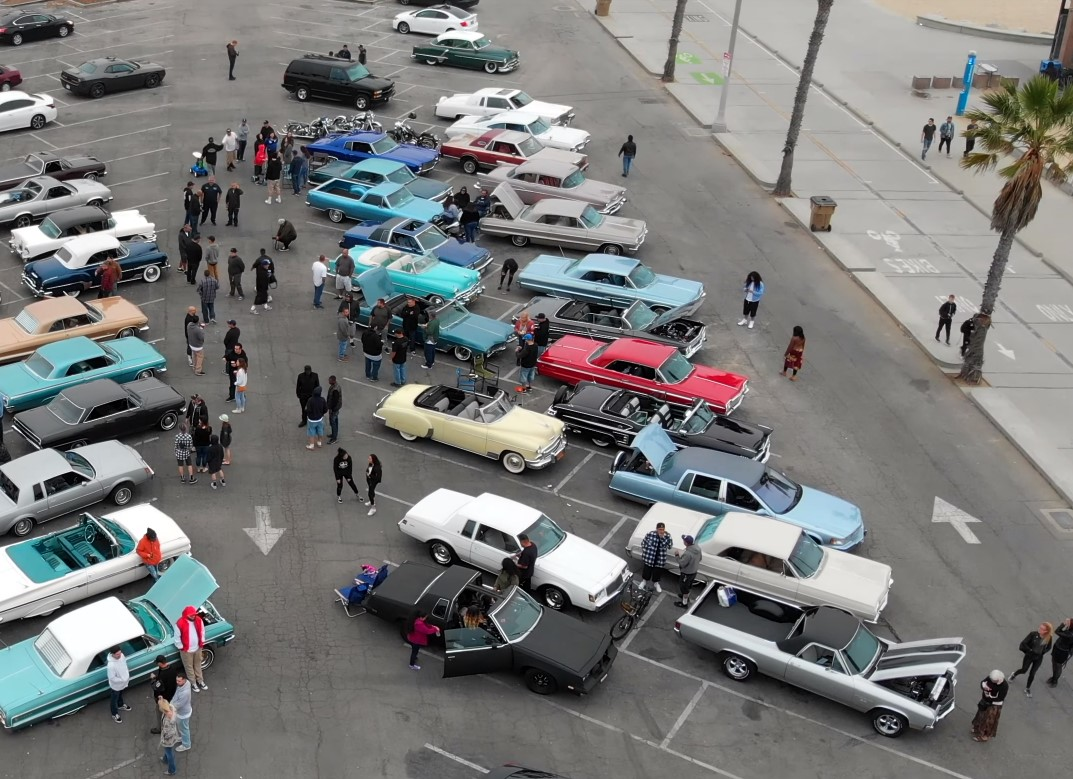araba: (674, 572, 964, 737), (1, 563, 242, 730), (353, 557, 623, 696), (627, 494, 897, 623), (389, 468, 618, 617), (595, 430, 872, 544), (393, 476, 636, 605), (1, 486, 204, 620), (553, 370, 784, 472), (372, 365, 579, 478), (537, 327, 750, 423), (362, 372, 563, 472), (1, 355, 185, 458), (1, 418, 168, 524), (510, 282, 718, 367), (510, 243, 710, 322), (476, 180, 672, 256), (1, 217, 182, 297), (337, 233, 486, 315), (1, 274, 151, 355), (363, 282, 523, 357), (464, 156, 641, 222), (307, 166, 443, 233), (443, 125, 594, 182), (279, 49, 401, 108), (426, 86, 578, 129), (407, 21, 523, 75), (57, 48, 167, 93)
insan: (1006, 612, 1053, 700), (171, 598, 209, 690), (101, 644, 140, 727), (970, 666, 1008, 746), (632, 519, 670, 594), (148, 650, 179, 734), (132, 522, 165, 597), (403, 612, 443, 672), (250, 247, 284, 315), (327, 443, 364, 503), (510, 529, 539, 605), (153, 698, 182, 773), (168, 674, 196, 751), (672, 527, 697, 606), (293, 362, 324, 425), (738, 270, 767, 331), (170, 421, 198, 484), (777, 325, 806, 385), (509, 326, 536, 390), (331, 244, 359, 304), (189, 307, 212, 380), (212, 406, 239, 468), (304, 382, 328, 451), (225, 243, 253, 302), (324, 368, 346, 443), (359, 318, 384, 382), (361, 452, 386, 515), (176, 223, 201, 285), (195, 266, 220, 327), (401, 295, 424, 357), (93, 255, 124, 301), (200, 173, 224, 227), (934, 290, 956, 348), (270, 215, 299, 259), (225, 179, 248, 234), (312, 251, 332, 312), (232, 353, 251, 417), (204, 231, 225, 288), (266, 151, 286, 209), (615, 131, 639, 179), (204, 433, 225, 487), (335, 306, 355, 361), (495, 253, 519, 298), (182, 180, 204, 229), (423, 310, 439, 370), (219, 317, 237, 370), (201, 133, 221, 179), (392, 326, 407, 385), (937, 113, 956, 159), (918, 115, 935, 165), (220, 129, 240, 171), (290, 148, 306, 199), (962, 112, 978, 162), (223, 37, 240, 83), (239, 113, 251, 166)
